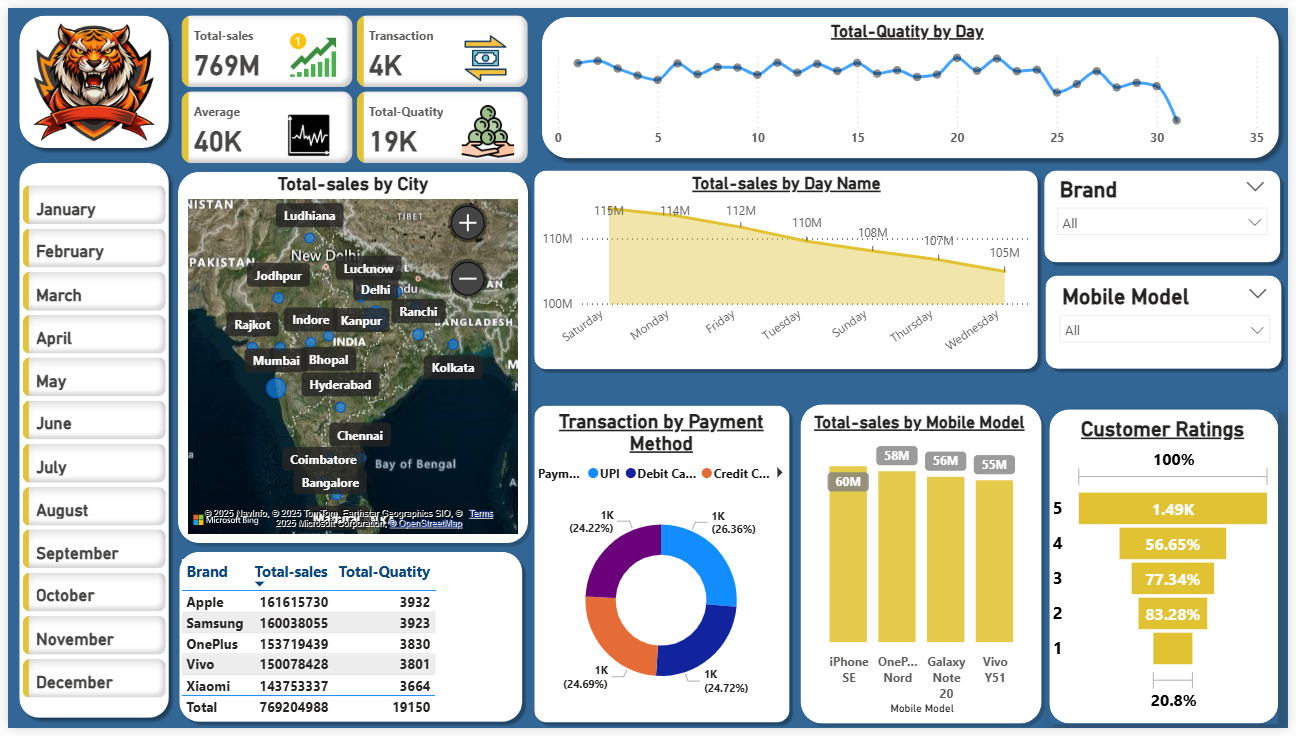

This screenshot's page, from the dashboard's own definition file:
{"tool":"powerbi","page":{"name":"Project1","canvas":[1280,720],"ordinal":0},"visuals":[{"type":"shape","box":[1030.5,156.4,248.4,104.3],"z":0},{"type":"shape","box":[164.7,537.5,355.4,182.5],"z":1000},{"type":"shape","box":[787.7,391.1,251.1,329.3],"z":2000},{"type":"shape","box":[165,158.8,360,381.2],"z":3000},{"type":"shape","box":[525.6,0,754.7,159.2],"z":4000},{"type":"shape","box":[3.9,0,164.5,147.4],"z":5000},{"type":"image","box":[8.2,1.4,155.1,146.8],"z":6000},{"type":"shape","box":[3.9,147.4,164.5,569.7],"z":7000},{"type":"advancedSlicerVisual","fields":{"Values":["Sheet21.Date.Variation.Date Hierarchy.Month"]},"box":[10,172.5,153.8,528.8],"z":8000},{"type":"cardVisual","fields":{"Data":["Sheet21.total","Sheet21.Transaction","Sheet21.Average","Sheet21.Total-Quatity"]},"box":[168.8,2.5,356.2,158.8],"z":9000},{"type":"map","fields":{"Category":["Sheet21.City"],"Size":["Sheet21.Total-sales"]},"box":[175,165,340,366.2],"z":10000},{"type":"lineChart","fields":{"Category":["Sheet21.Date.Variation.Date Hierarchy.Month","Sheet21.Date.Variation.Date Hierarchy.Day"],"Y":["Sheet21.Total-Quatity"]},"box":[535.2,12.3,728.6,135.8],"z":11000},{"type":"clusteredColumnChart","fields":{"Category":["Sheet21.Mobile Model"],"Y":["Sheet21.Total-sales"]},"box":[791.8,403.4,240.1,307.4],"z":12000},{"type":"shape","box":[520.1,391.1,267.6,329.3],"z":13000},{"type":"donutChart","fields":{"Category":["Sheet21.Payment Method"],"Y":["Sheet21.Transaction"]},"box":[525.6,402.1,256.6,308.7],"z":14000},{"type":"shape","box":[1041.5,400.7,229.2,314.2],"z":15000},{"type":"funnel","title":"Customer Ratings","fields":{"Category":["Sheet21.Customer Ratings"],"Y":["CountNonNull(Sheet21.Customer Ratings)"]},"box":[1040.1,408.9,229.2,300.5],"z":16000},{"type":"shape","box":[520.1,156.4,516,211.3],"z":17000},{"type":"areaChart","fields":{"Y":["Sheet21.Total-sales"],"Category":["Sheet21.Day Name"]},"box":[528.3,164.7,499.5,190.7],"z":18000},{"type":"tableEx","fields":{"Values":["Sheet21.Brand","Sheet21.Total-sales","Sheet21.Total-Quatity"]},"box":[167.4,546.1,348.5,168.8],"z":19000},{"type":"slicer","fields":{"Values":["Sheet21.Brand"]},"box":[1038.8,163.3,230.5,94.7],"z":20000},{"type":"shape","box":[1031.6,260.7,248.4,105.7],"z":21000},{"type":"slicer","fields":{"Values":["Sheet21.Mobile Model"]},"box":[1041.5,271.7,230.5,86.4],"z":23000}]}

Visuals, with their boxes in screenshot pixels (x1, y1, x2, y2), scaled from the page's 1280x720 canvas onto the 1296x736 screenshot:
shape: left=1043, top=160, right=1295, bottom=266
shape: left=167, top=549, right=527, bottom=735
shape: left=798, top=400, right=1052, bottom=735
shape: left=167, top=162, right=532, bottom=552
shape: left=532, top=0, right=1295, bottom=163
shape: left=4, top=0, right=171, bottom=151
image: left=8, top=1, right=165, bottom=151
shape: left=4, top=151, right=171, bottom=733
advancedSlicerVisual - Sheet21.Date.Variation.Date Hierarchy.Month: left=10, top=176, right=166, bottom=717
cardVisual - Sheet21.total x Sheet21.Transaction: left=171, top=3, right=532, bottom=165
map - Sheet21.City x Sheet21.Total-sales: left=177, top=169, right=521, bottom=543
lineChart - Sheet21.Date.Variation.Date Hierarchy.Month x Sheet21.Date.Variation.Date Hierarchy.Day: left=542, top=13, right=1280, bottom=151
clusteredColumnChart - Sheet21.Mobile Model x Sheet21.Total-sales: left=802, top=412, right=1045, bottom=727
shape: left=527, top=400, right=798, bottom=735
donutChart - Sheet21.Payment Method x Sheet21.Transaction: left=532, top=411, right=792, bottom=727
shape: left=1055, top=410, right=1287, bottom=731
"Customer Ratings" funnel: left=1053, top=418, right=1285, bottom=725
shape: left=527, top=160, right=1049, bottom=376
areaChart - Sheet21.Total-sales x Sheet21.Day Name: left=535, top=168, right=1041, bottom=363
tableEx - Sheet21.Brand x Sheet21.Total-sales: left=169, top=558, right=522, bottom=731
slicer - Sheet21.Brand: left=1052, top=167, right=1285, bottom=264
shape: left=1044, top=266, right=1295, bottom=375
slicer - Sheet21.Mobile Model: left=1055, top=278, right=1288, bottom=366
